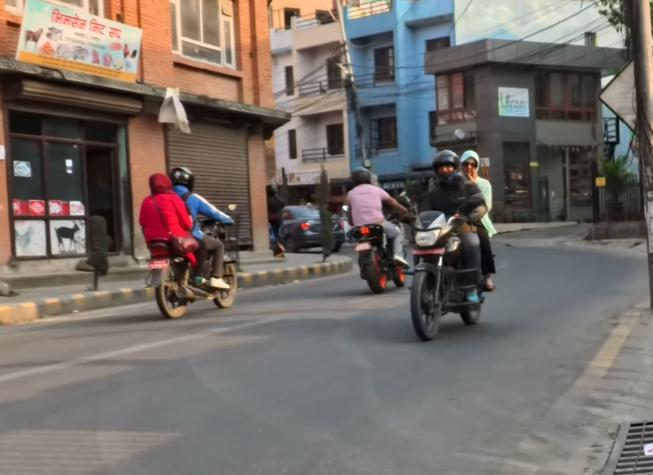bike: (395, 187, 502, 341), (142, 203, 249, 325), (332, 196, 412, 295)
